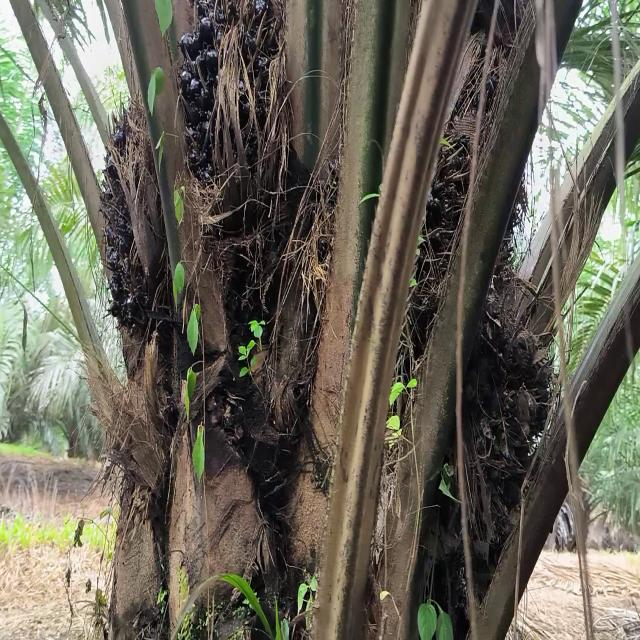palm-oil: (174, 0, 301, 294), (86, 95, 177, 364)
